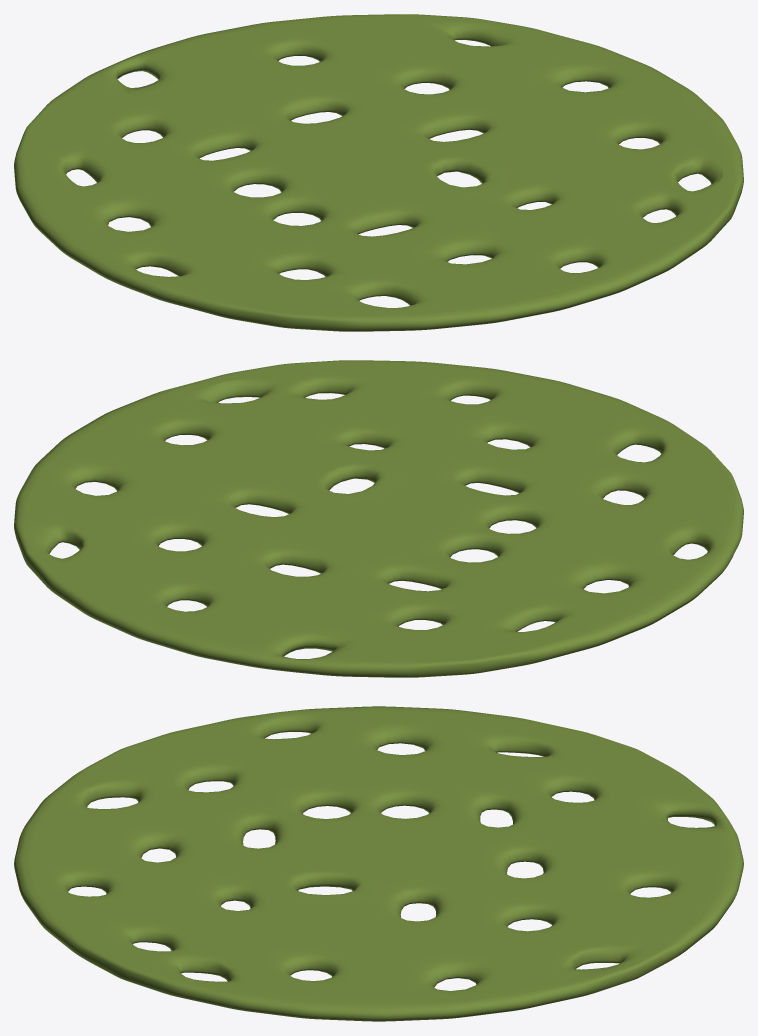
The model's file is Platform.fbx.
The picture shows the model from 3 angles, top to bottom: view 1: azimuth 30°, elevation 25°; view 2: azimuth 150°, elevation 25°; view 3: azimuth 270°, elevation 25°; orthographic projection.
Visible parts, largest first — view 1: Platform; view 2: Platform; view 3: Platform.
Part boxes in pixels (box(x1,y1,x2,y2)): Platform: box(14, 14, 743, 331); Platform: box(14, 360, 743, 677); Platform: box(14, 706, 743, 1021).
Size of the model in its own units: 59.85 by 59.87 by 1.22.
